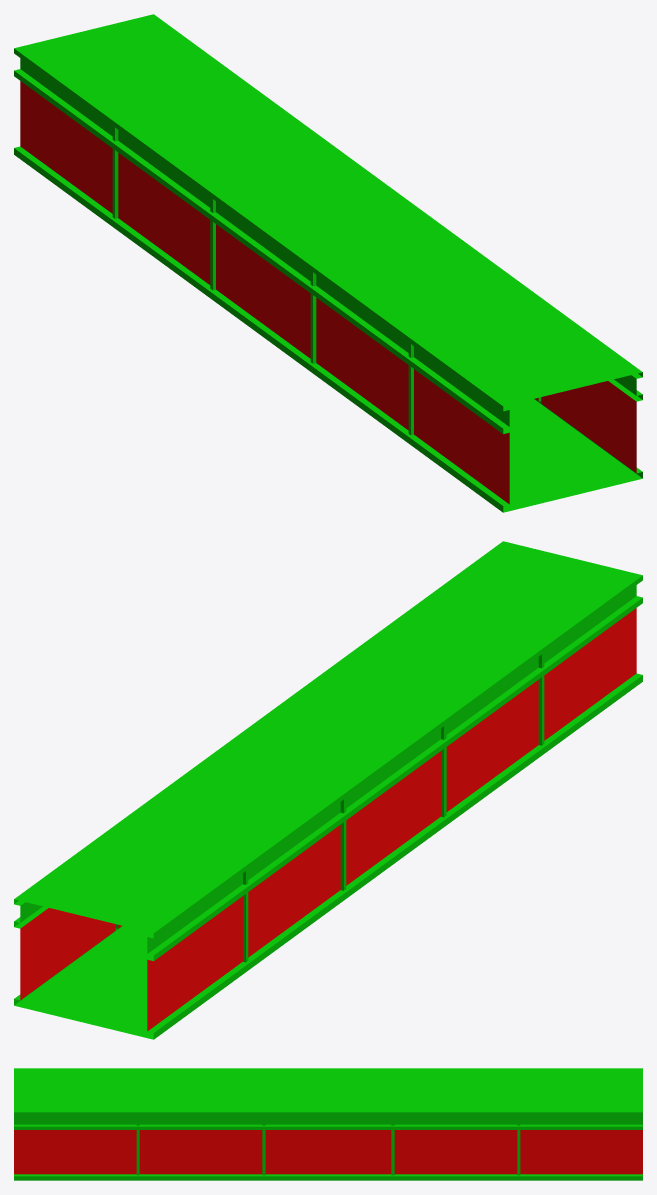
The model's file is Skybridge_Box.fbx.
3 views of the same model, one above another, from view 1: azimuth 30°, elevation 25°; view 2: azimuth 150°, elevation 25°; view 3: azimuth 270°, elevation 25° (orthographic). The views are drawn at different scales.
Visible parts, largest first — view 1: BridgeBox; view 2: BridgeBox; view 3: BridgeBox.
Part boxes in pixels (left/top/right/bottom): BridgeBox: left=14, top=14, right=642, bottom=512; BridgeBox: left=14, top=541, right=642, bottom=1039; BridgeBox: left=14, top=1068, right=642, bottom=1180.
Size of the model in its own units: 330 by 240 by 2000.
